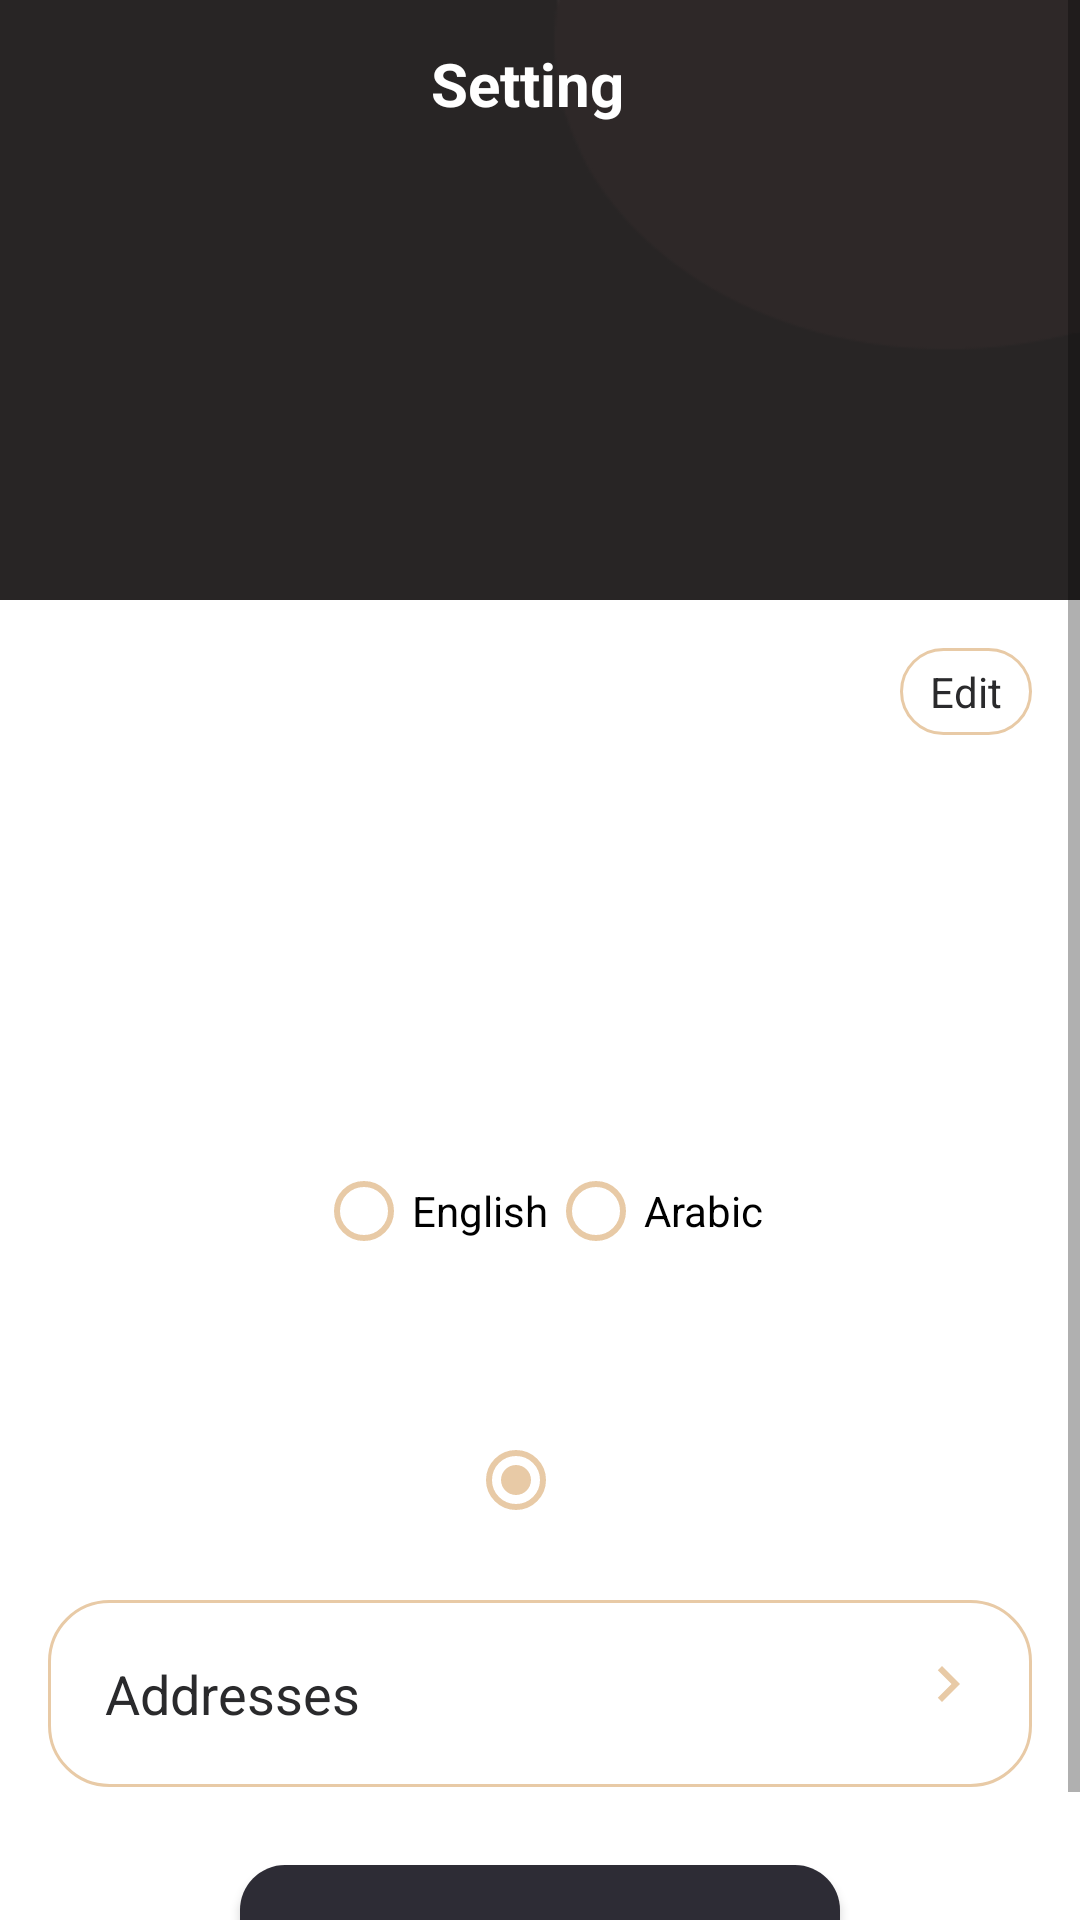

Where icons sit on this 1080px×1920px app screen, as (x1, y1, x2, y2):
chevron right: (938, 1666, 960, 1702)
